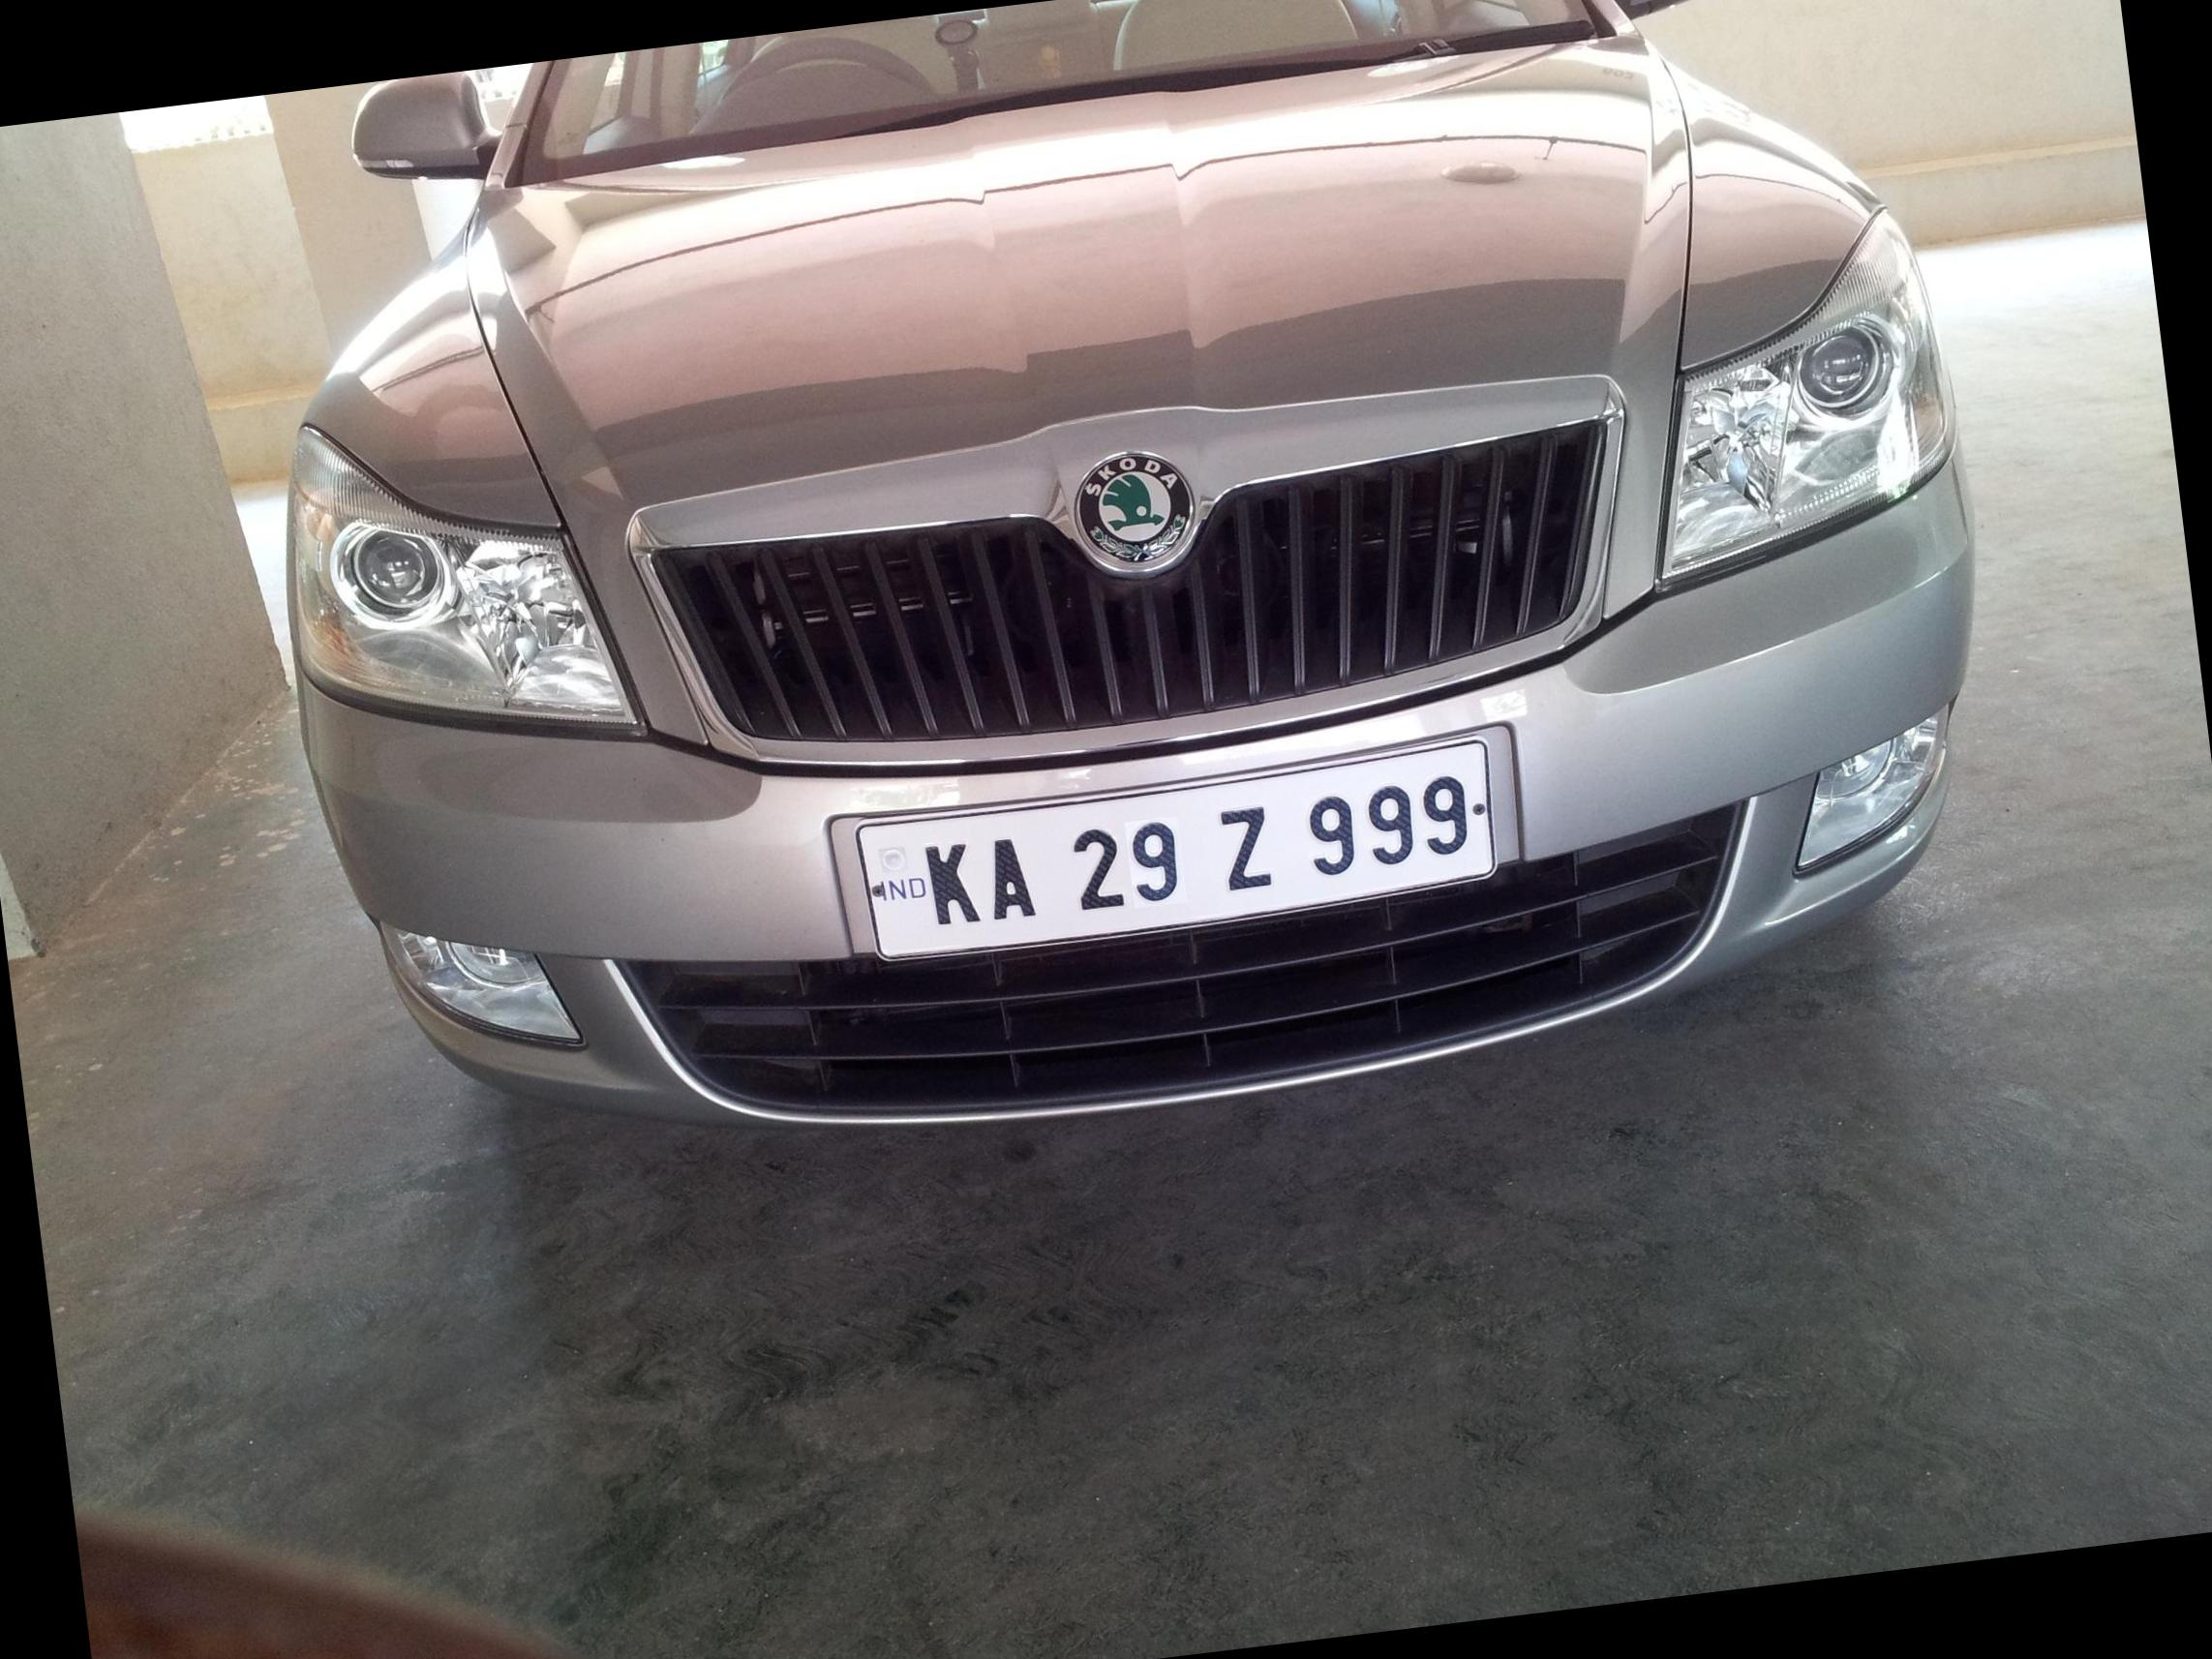plate: (813, 726, 1552, 982)
